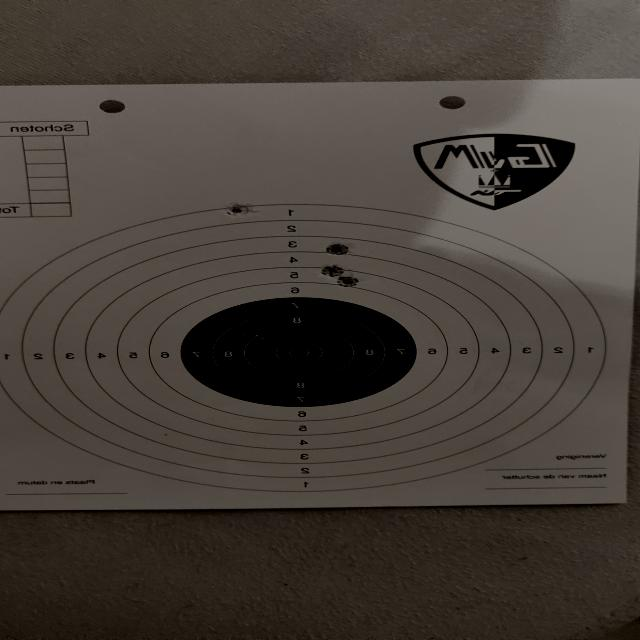1: (224, 205, 250, 215)
4: (326, 243, 349, 255)
5: (320, 265, 343, 278)
6: (335, 276, 359, 287)
9: (240, 329, 270, 341)
Target: (0, 204, 607, 494)
black_contour: (180, 297, 420, 407)
